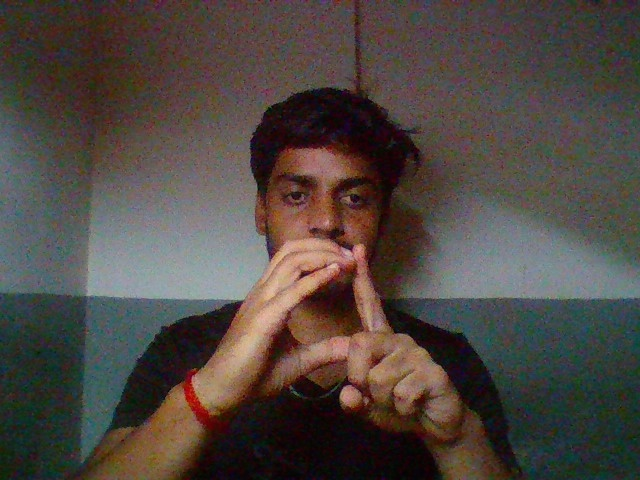D: (186, 231, 491, 450)
